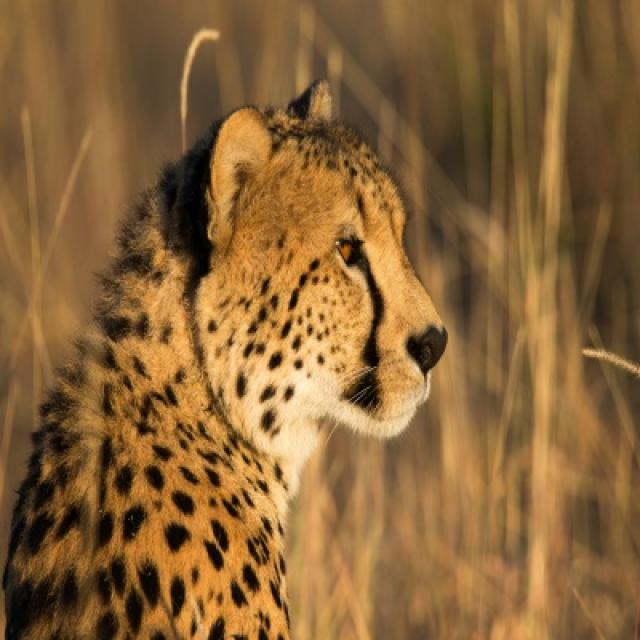Cheetah: (0, 80, 448, 638)
